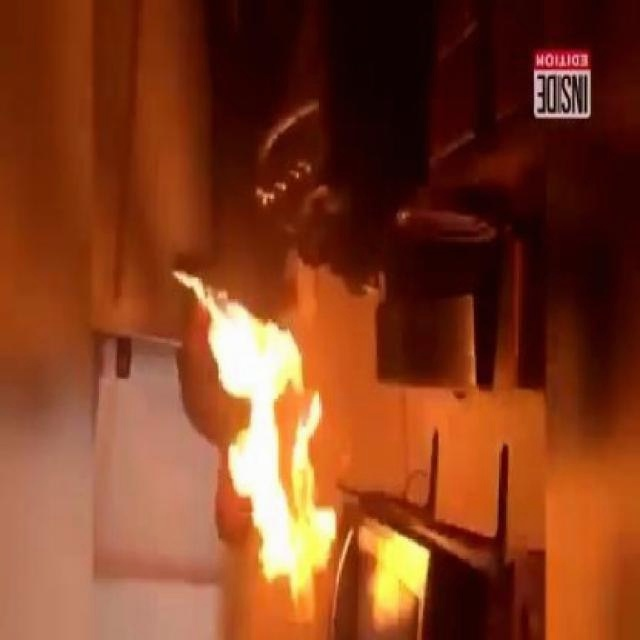fire: (163, 270, 440, 640)
